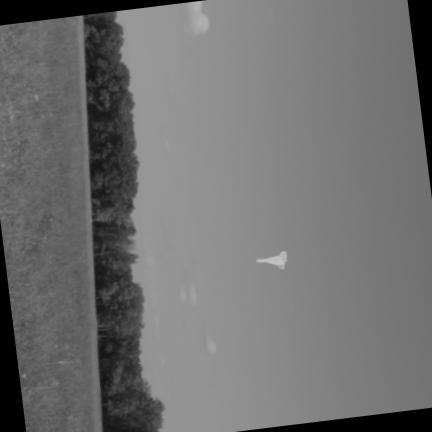Shahed: (255, 251, 285, 268)
